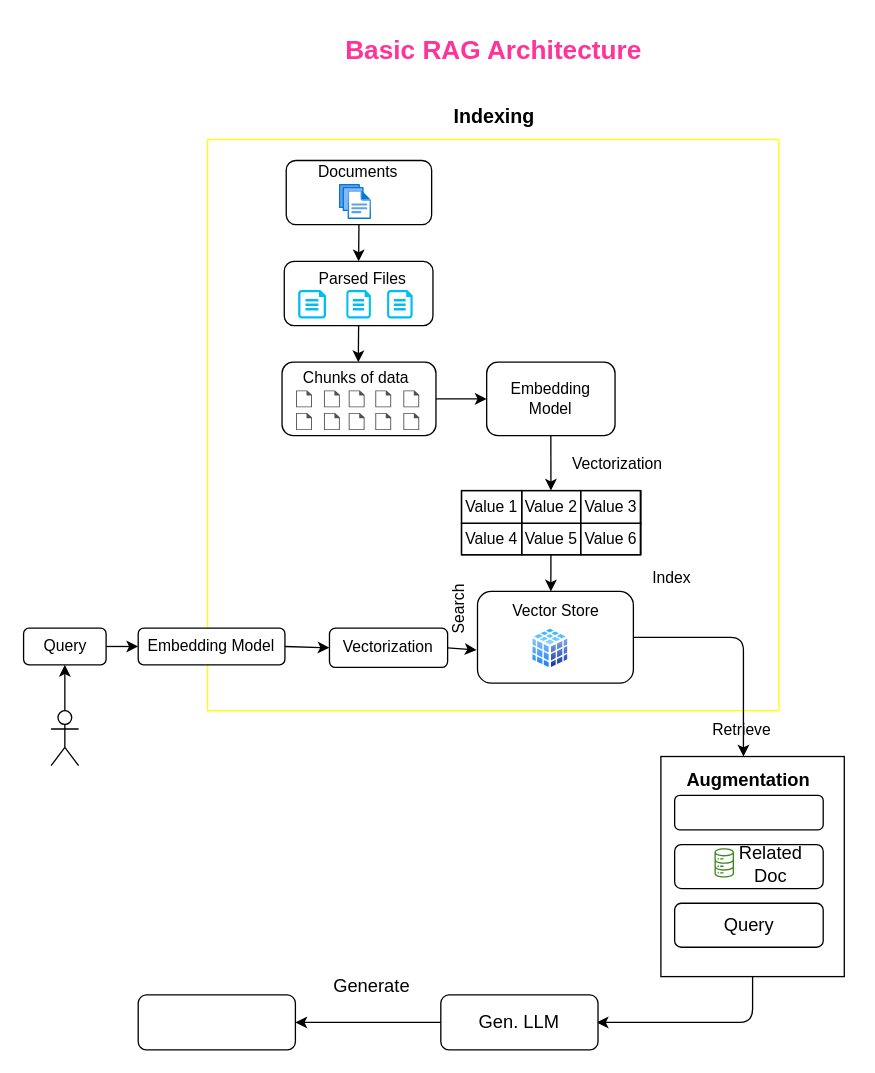
Image size: 875x1073. Some labels were removed from this diagram. The box of each missing label's shape, as (x1, y1, x2, y2) in pixels:
Prompt: (673, 794, 823, 830)
Response: (137, 994, 295, 1050)
User: (50, 709, 79, 766)
